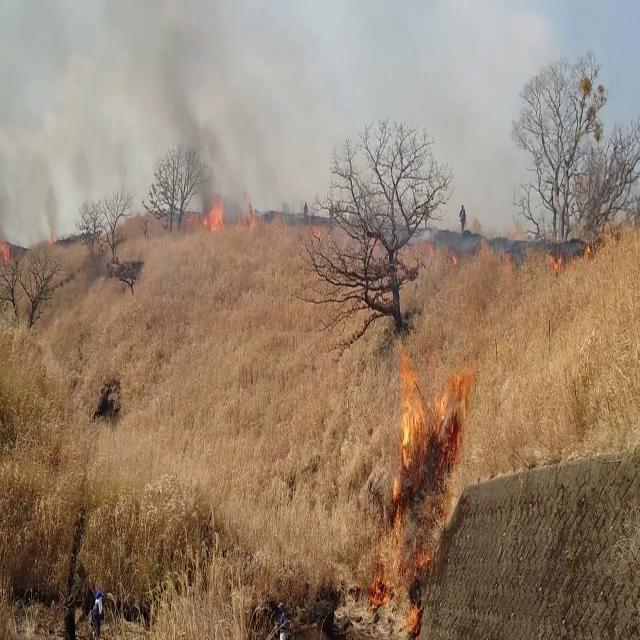Fire: (200, 191, 228, 235)
Smoke: (124, 1, 253, 226)
